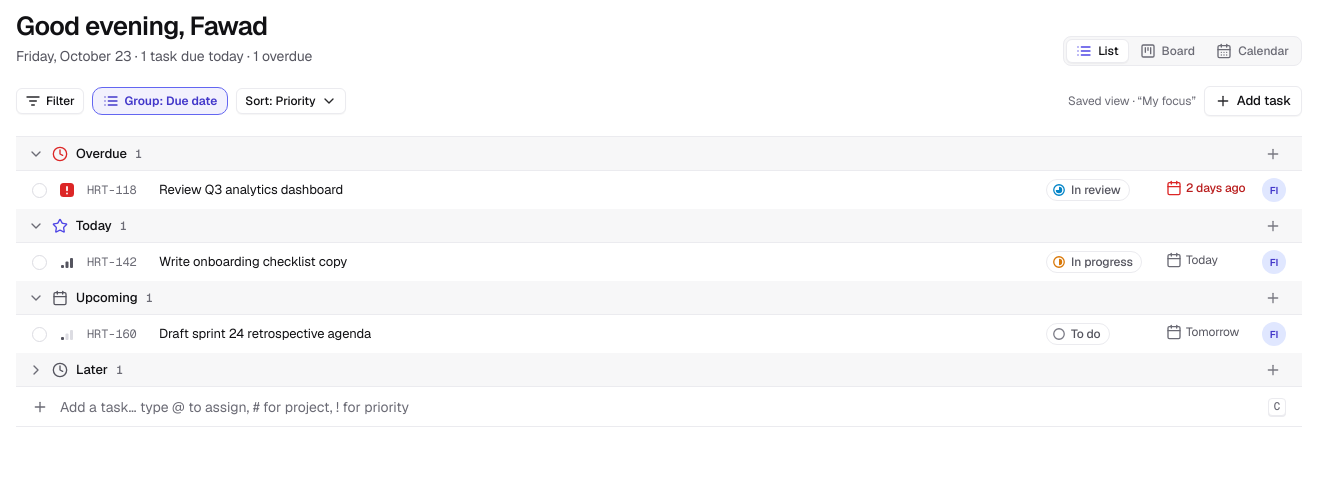
MyTasksPage › renders due-date groups with Overdue first and Later collapsed
Check: the text "Review Q3 analytics dashboard" is shown, box [159,181,343,198]
Check: the text "Plan next quarter offsite" is not shown
Click the button "Later 1".
click(92, 369)  # box [24,356,1252,382]
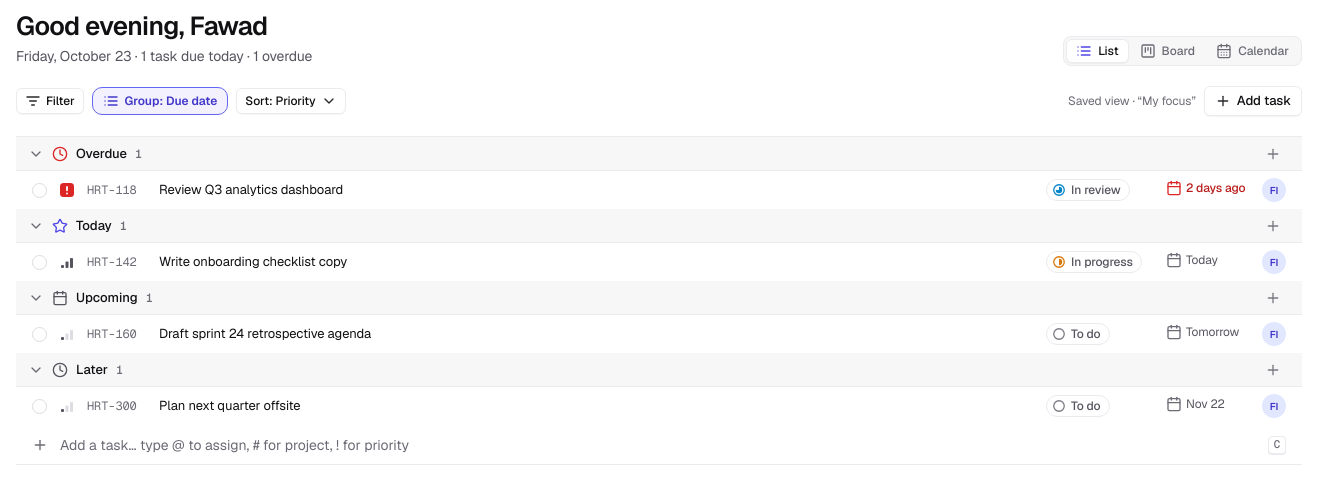
Check: the text "2 days ago" is shown, box [1166,180,1246,196]
Check: the text "Plan next quarter offsite" is shown, box [159,397,300,414]
